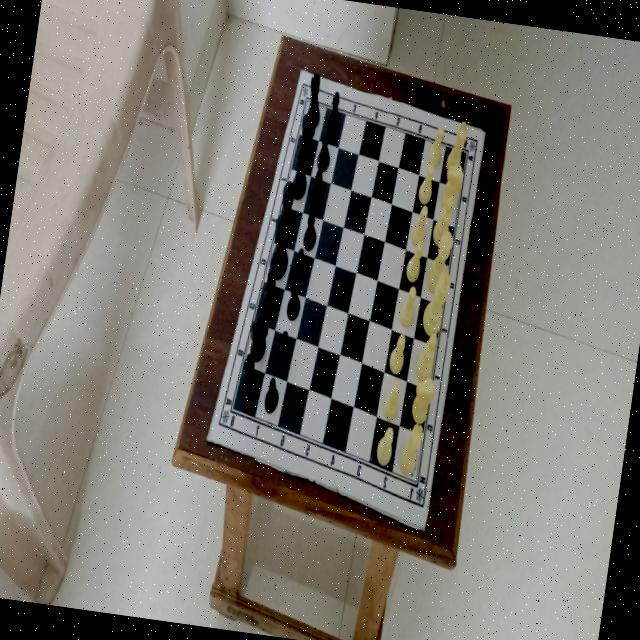corners: (200, 423, 217, 448), (477, 125, 491, 149), (416, 521, 432, 540), (296, 66, 308, 84)
